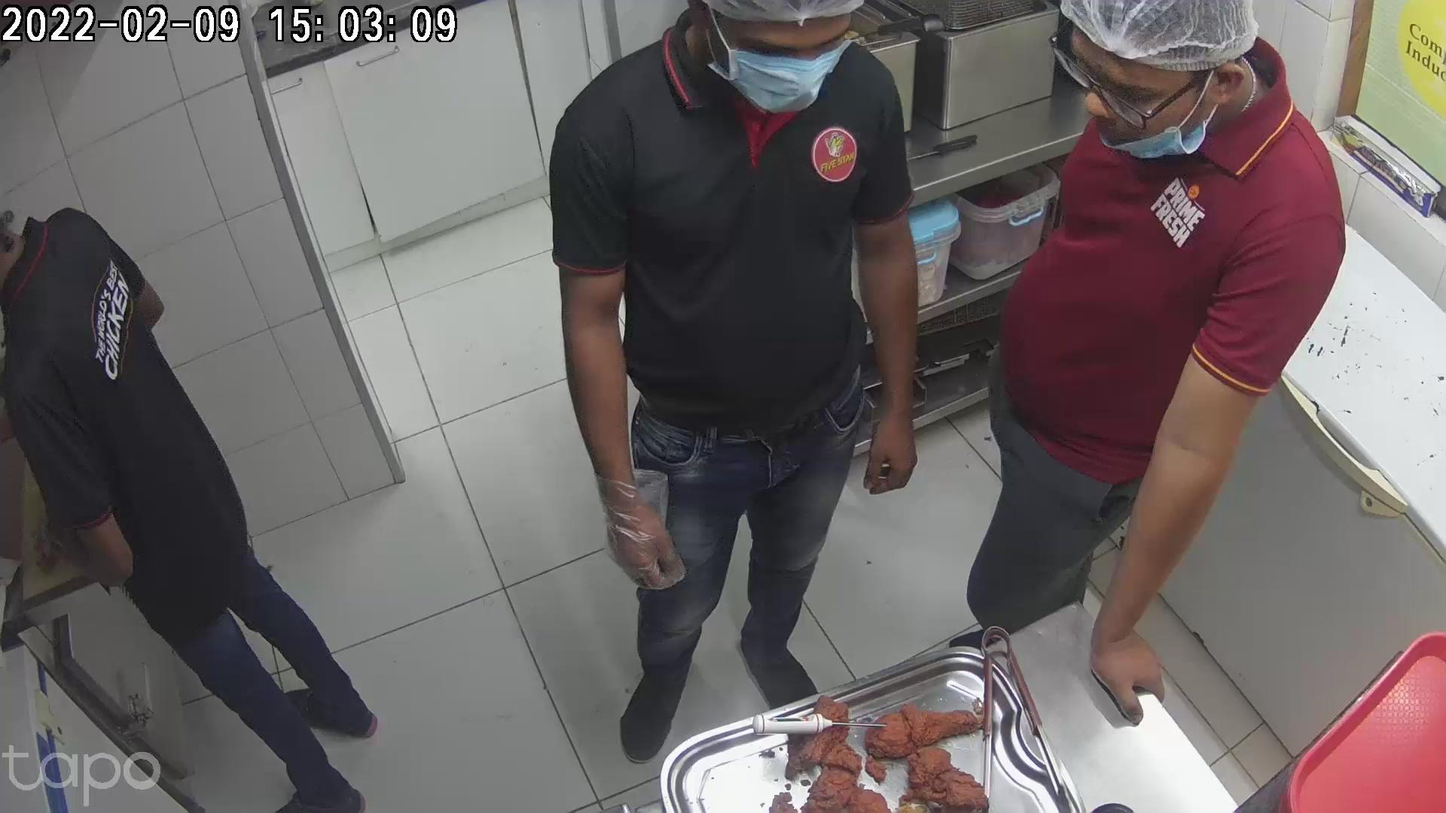no_gloves: (949, 321, 1115, 388)
